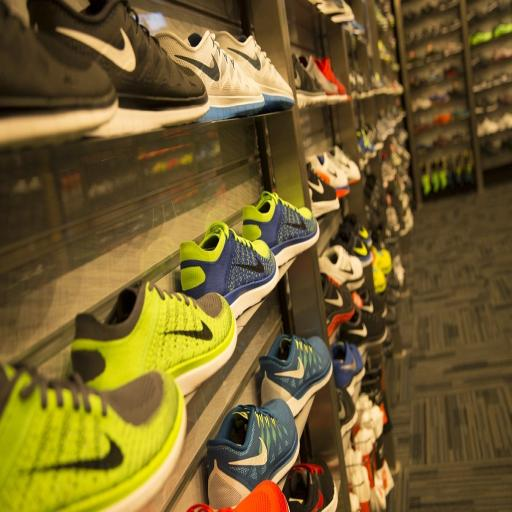shoe: (0, 365, 186, 512), (27, 0, 209, 136), (71, 283, 237, 394), (0, 0, 118, 148), (206, 399, 300, 509), (156, 30, 264, 120), (180, 222, 279, 318), (216, 32, 295, 112), (259, 334, 332, 416), (242, 191, 320, 266), (187, 480, 289, 512), (319, 245, 385, 291), (283, 459, 338, 512), (338, 308, 388, 355), (299, 55, 346, 104), (361, 367, 393, 433), (321, 274, 355, 336), (306, 152, 350, 199), (292, 54, 327, 109), (306, 163, 340, 219), (331, 340, 365, 396), (283, 465, 323, 512), (344, 447, 371, 512), (314, 57, 350, 102), (332, 230, 374, 267), (311, 459, 338, 512), (356, 393, 384, 439), (331, 146, 361, 185), (336, 387, 358, 437), (340, 214, 372, 247), (352, 288, 387, 318), (370, 245, 392, 276), (356, 129, 376, 157), (371, 265, 387, 294), (386, 272, 400, 304), (349, 491, 362, 512)
